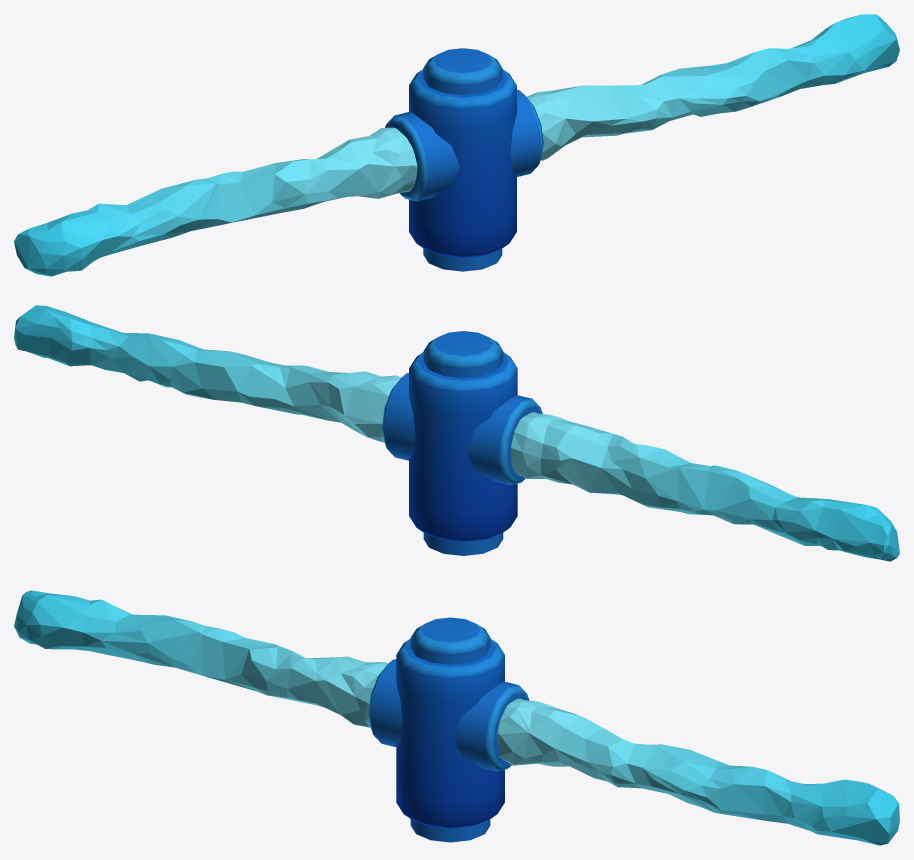
Rendered from obstacle_9_001.fbx.
3 views of the same model, one above another, from view 1: azimuth 30°, elevation 25°; view 2: azimuth 150°, elevation 25°; view 3: azimuth 330°, elevation 25° (orthographic).
Visible parts, largest first — view 1: obstacle_9_001; view 2: obstacle_9_001; view 3: obstacle_9_001.
Boxes of the visible parts, <box> form: obstacle_9_001: <box>14,14,899,276</box>; obstacle_9_001: <box>14,305,899,561</box>; obstacle_9_001: <box>14,590,899,845</box>.
Size of the model in its own units: 1097 by 117 by 233.
